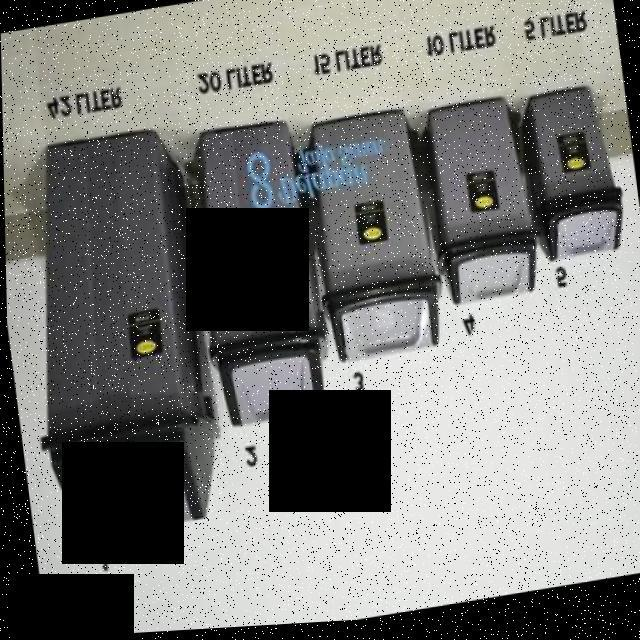bin: (2, 108, 226, 556), (178, 112, 336, 439), (294, 92, 445, 382), (414, 90, 542, 318), (514, 74, 632, 274)
